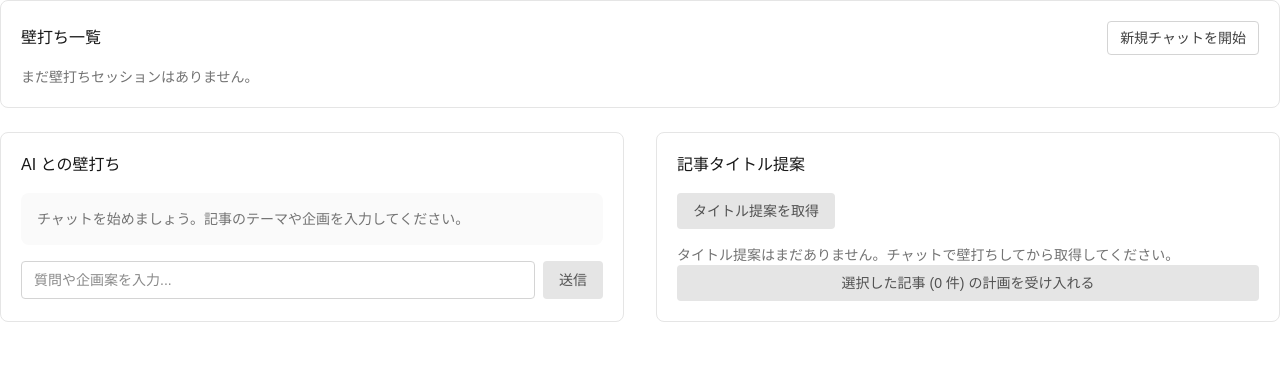
Test case: ArticlePlanWorkspace: チャット › 送信に失敗したら理由を示し、履歴には足さない
Type "こんにちは" into the field with placeholder "質問や企画案を入力...".
click(278, 280); type("こんにちは")  # box top-left (21, 261), bottom-right (535, 299)
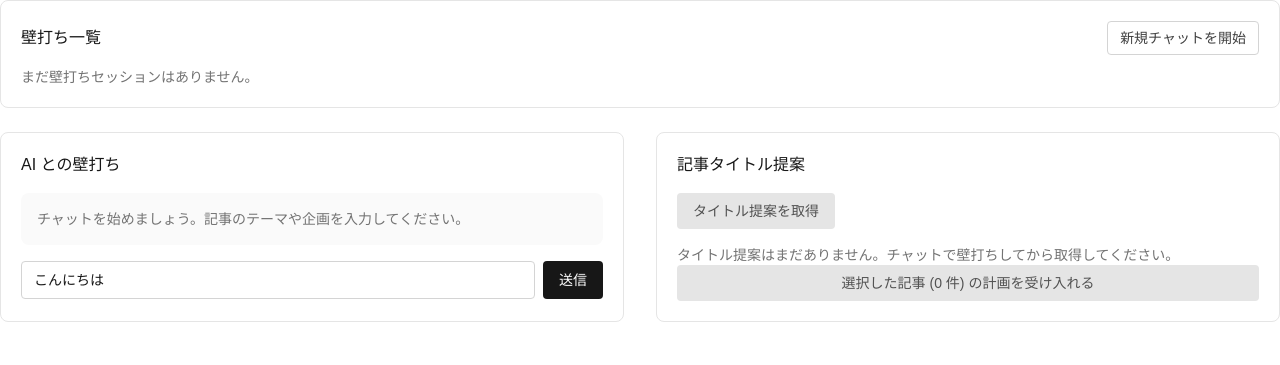
Click the button "送信".
click(573, 280)  # box top-left (543, 261), bottom-right (603, 299)
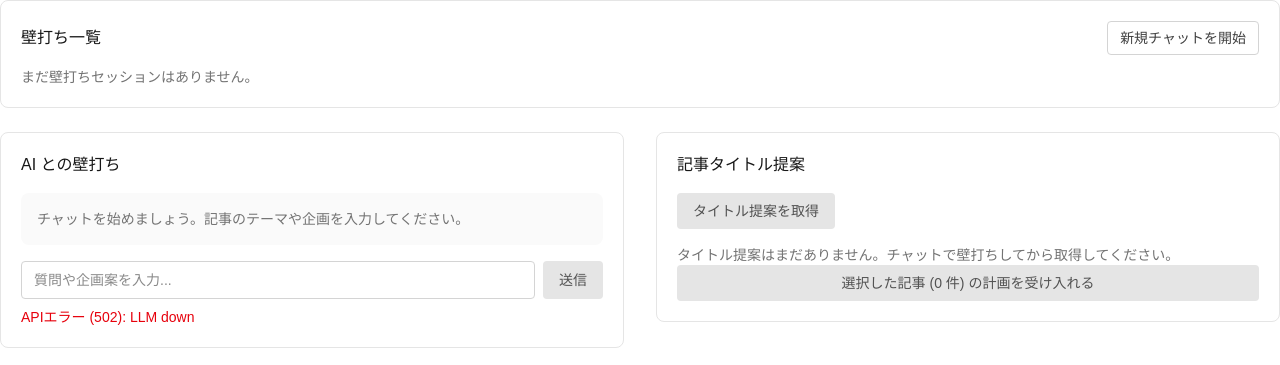
Expected: the text "APIエラー (502): LLM down" is shown, top-left (21, 309), bottom-right (194, 325)
